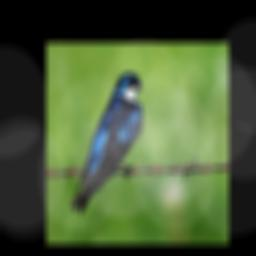Swallow: (69, 72, 145, 215)
